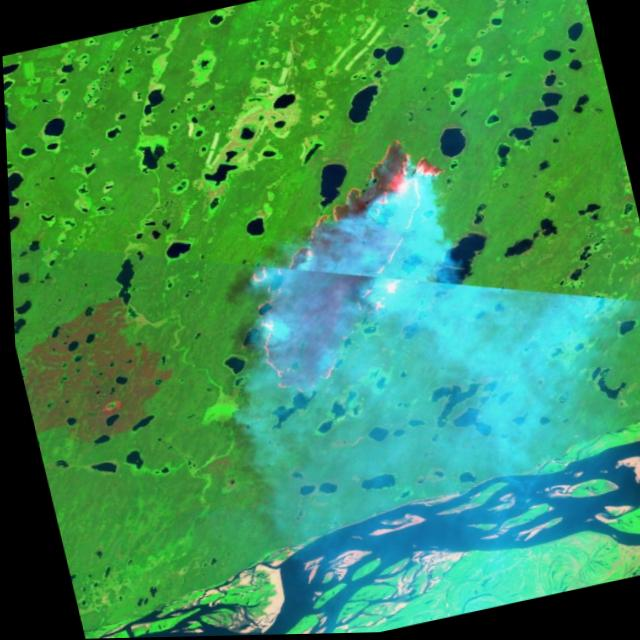fire: (210, 131, 489, 406)
